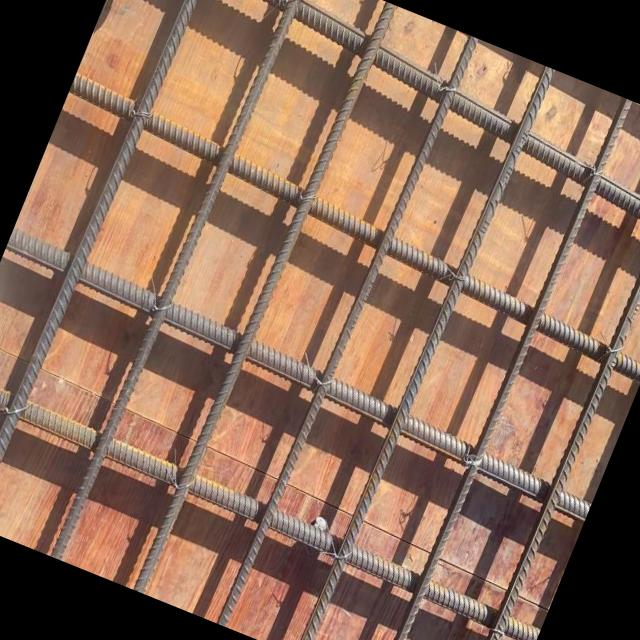ribbed bar: (47, 69, 640, 383), (0, 223, 607, 522), (131, 0, 396, 598), (216, 29, 478, 632), (0, 365, 550, 640), (294, 61, 554, 640), (48, 0, 311, 564), (373, 93, 632, 640), (113, 0, 640, 251), (0, 0, 223, 528), (450, 124, 640, 640)
